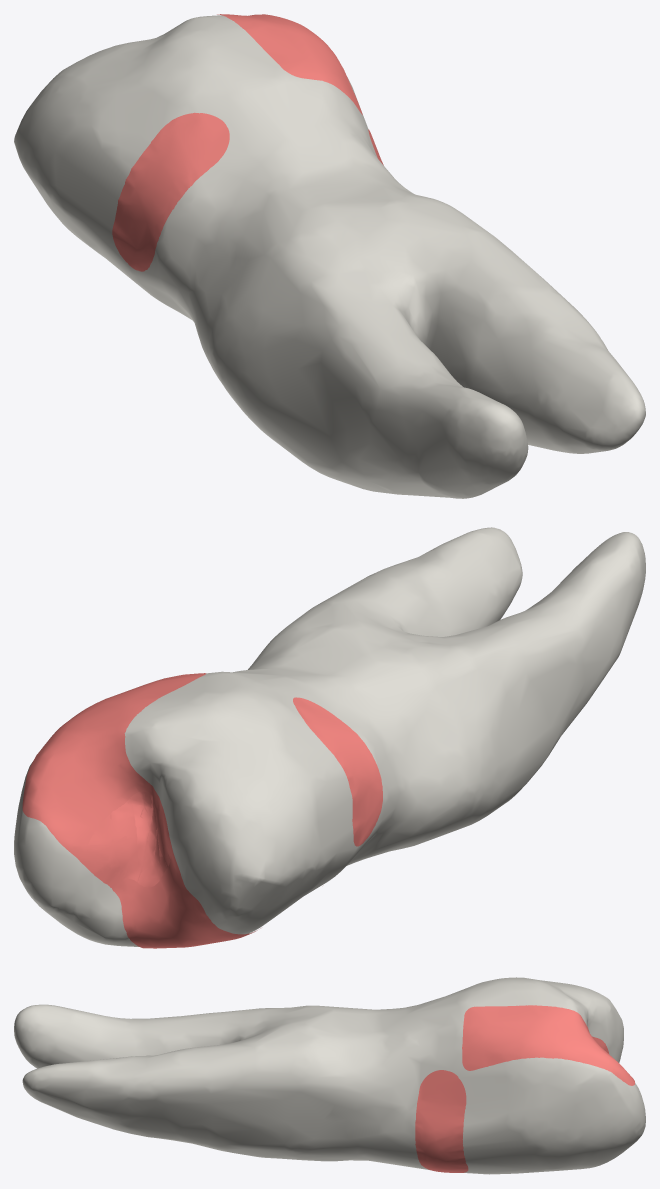
File: tooth_25_FMA55691.glb
The picture shows the model from 3 angles, top to bottom: view 1: azimuth 30°, elevation 25°; view 2: azimuth 150°, elevation 25°; view 3: azimuth 270°, elevation 25°; orthographic projection. The views are drawn at different scales.
Visible parts, largest first — view 1: tooth_25, class5_lingual, class2_distal; view 2: tooth_25, class2_distal, class2_mesial, class5_lingual, class2_mesial_distal, class1; view 3: tooth_25, class2_distal, class5_facial.
Part boxes in pixels (left/top/right/bottom): tooth_25: left=14, top=15, right=645, bottom=498; class5_lingual: left=112, top=112, right=229, bottom=271; class2_distal: left=217, top=14, right=362, bottom=114; tooth_25: left=14, top=527, right=645, bottom=946; class2_distal: left=22, top=673, right=206, bottom=887; class2_mesial: left=86, top=791, right=260, bottom=948; class5_lingual: left=293, top=697, right=382, bottom=846; class2_mesial_distal: left=52, top=768, right=177, bottom=910; class1: left=132, top=792, right=160, bottom=887; tooth_25: left=14, top=977, right=645, bottom=1174; class2_distal: left=462, top=1005, right=634, bottom=1085; class5_facial: left=415, top=1070, right=468, bottom=1172.
Size of the model in its own units: 8.81 by 7.19 by 24.5.
